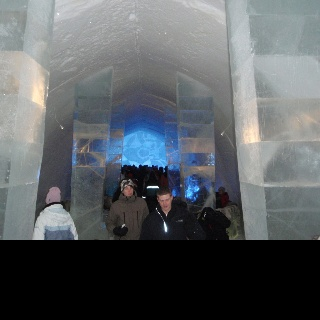without_mask: (158, 193, 172, 210), (122, 185, 134, 196)
